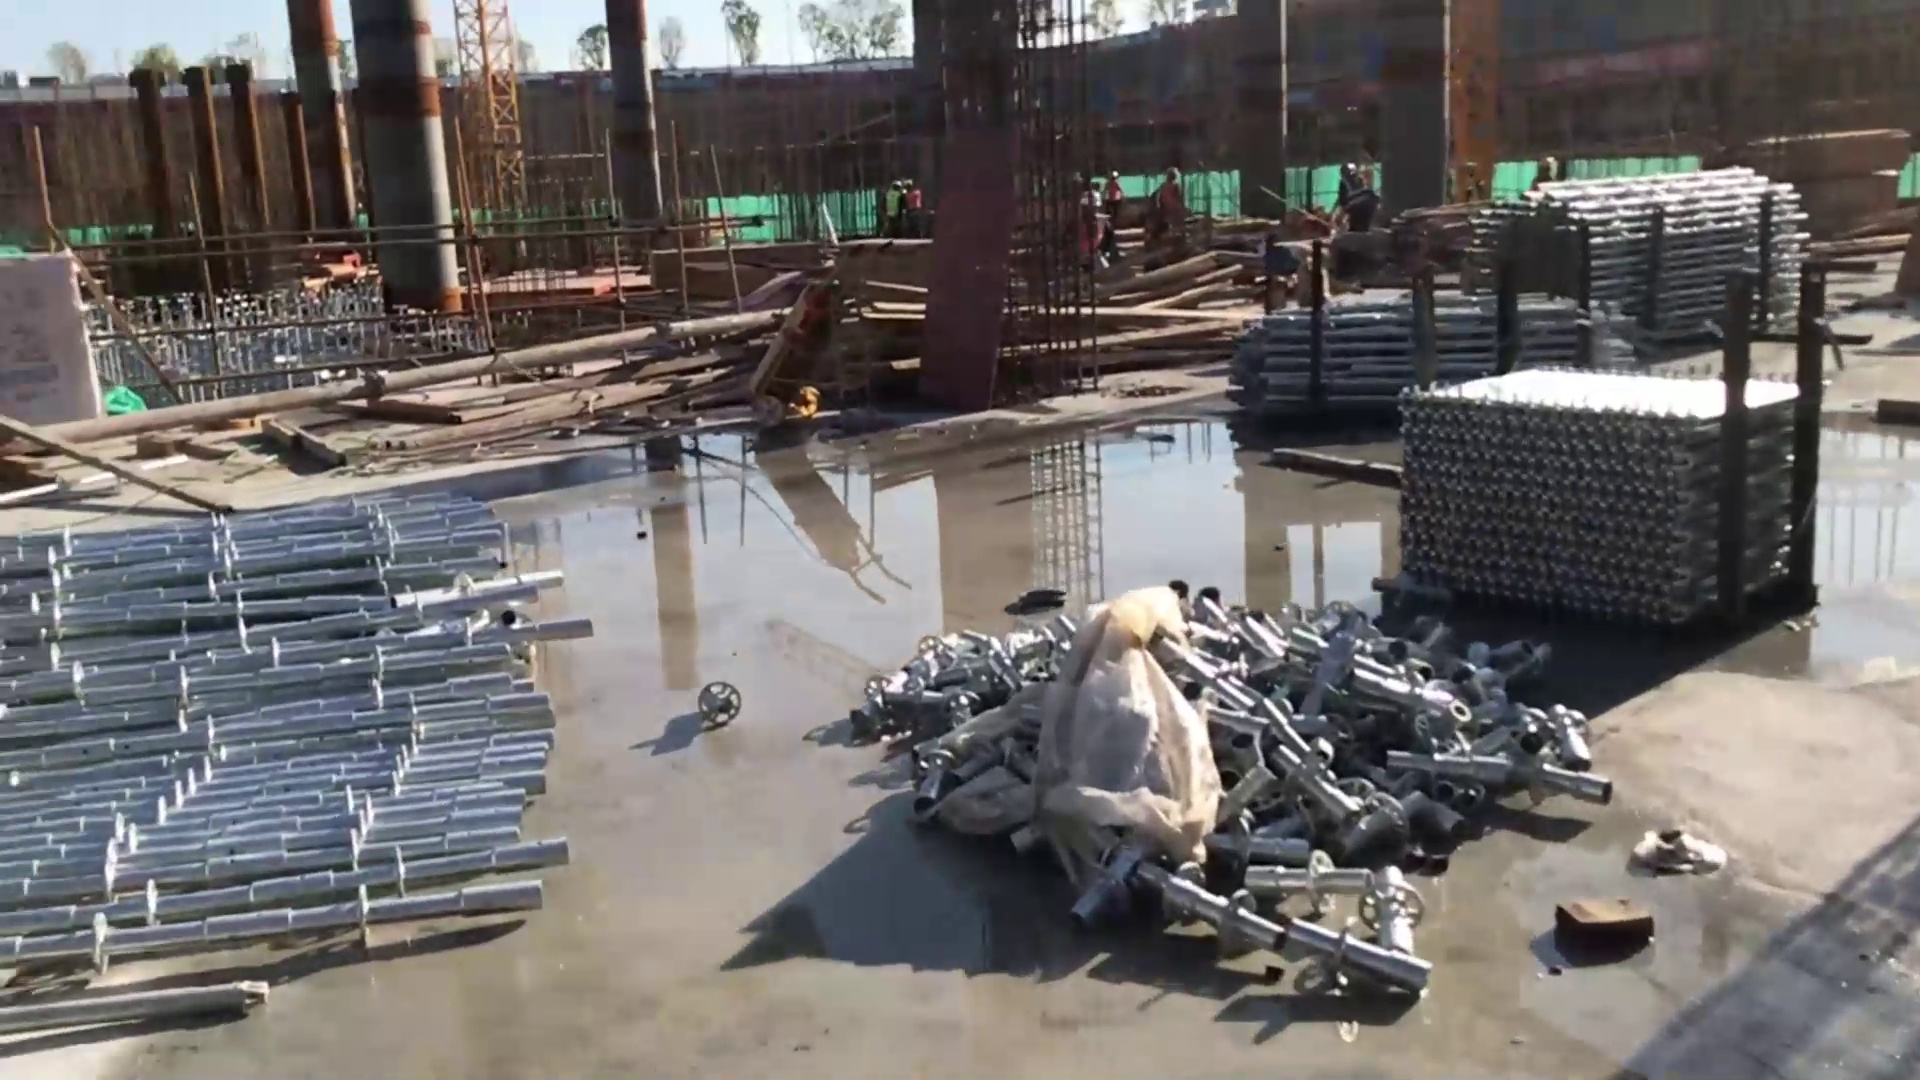person: (1336, 165, 1378, 229), (1158, 164, 1188, 240), (1100, 168, 1122, 230), (882, 178, 901, 235), (906, 179, 920, 235)
scaffold: (2, 500, 558, 961), (1398, 364, 1817, 616), (1473, 166, 1824, 347), (1232, 285, 1647, 420)
